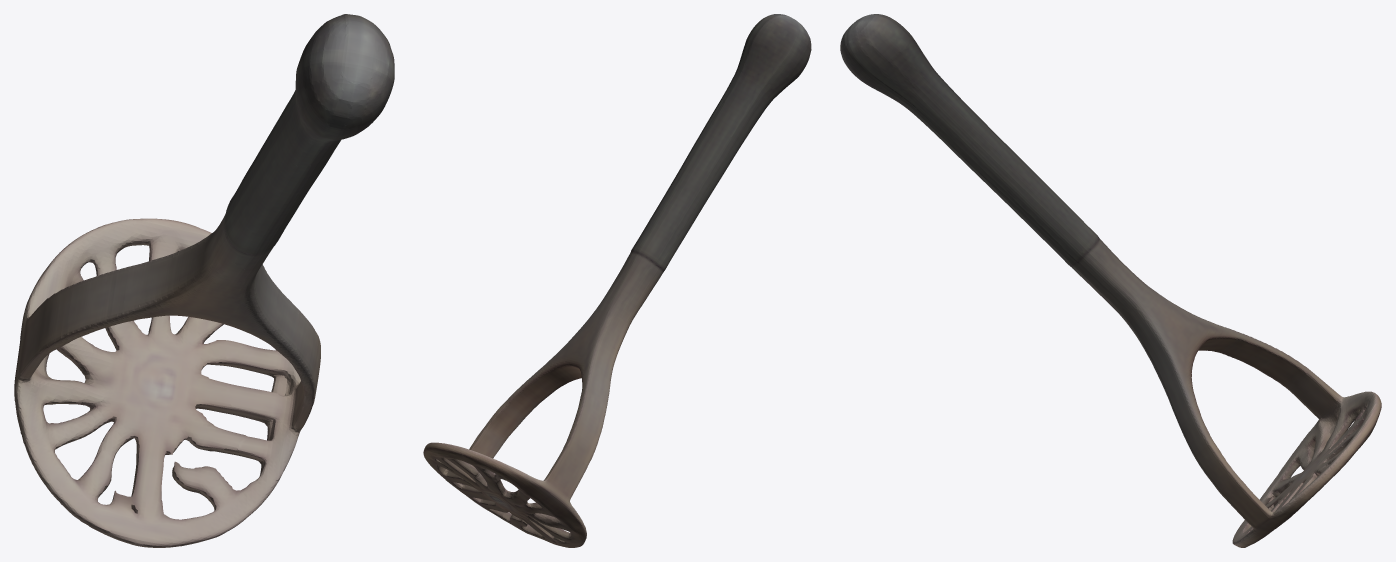
Rendered from frame_0017_source_000017_object.glb.
The picture shows the model from 3 angles, left to right: view 1: azimuth 30°, elevation 25°; view 2: azimuth 150°, elevation 25°; view 3: azimuth 270°, elevation 25°; orthographic projection. The views are drawn at different scales.
Parts seen in each view (by area): view 1: world; view 2: world; view 3: world.
Boxes of the visible parts, bbox=[...] form: world: bbox=[14, 14, 394, 547]; world: bbox=[423, 14, 811, 547]; world: bbox=[840, 14, 1381, 547].
Bounding box in the file's own units: 0.0935 × 0.2068 × 0.2101.
